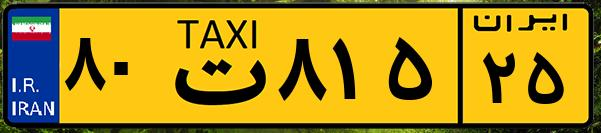0: (110, 28, 158, 98)
1: (330, 28, 385, 110)
2: (475, 38, 525, 113)
5: (385, 28, 445, 110), (525, 38, 570, 115)
8: (270, 28, 330, 110), (57, 26, 110, 100)
ت: (158, 12, 270, 120)
